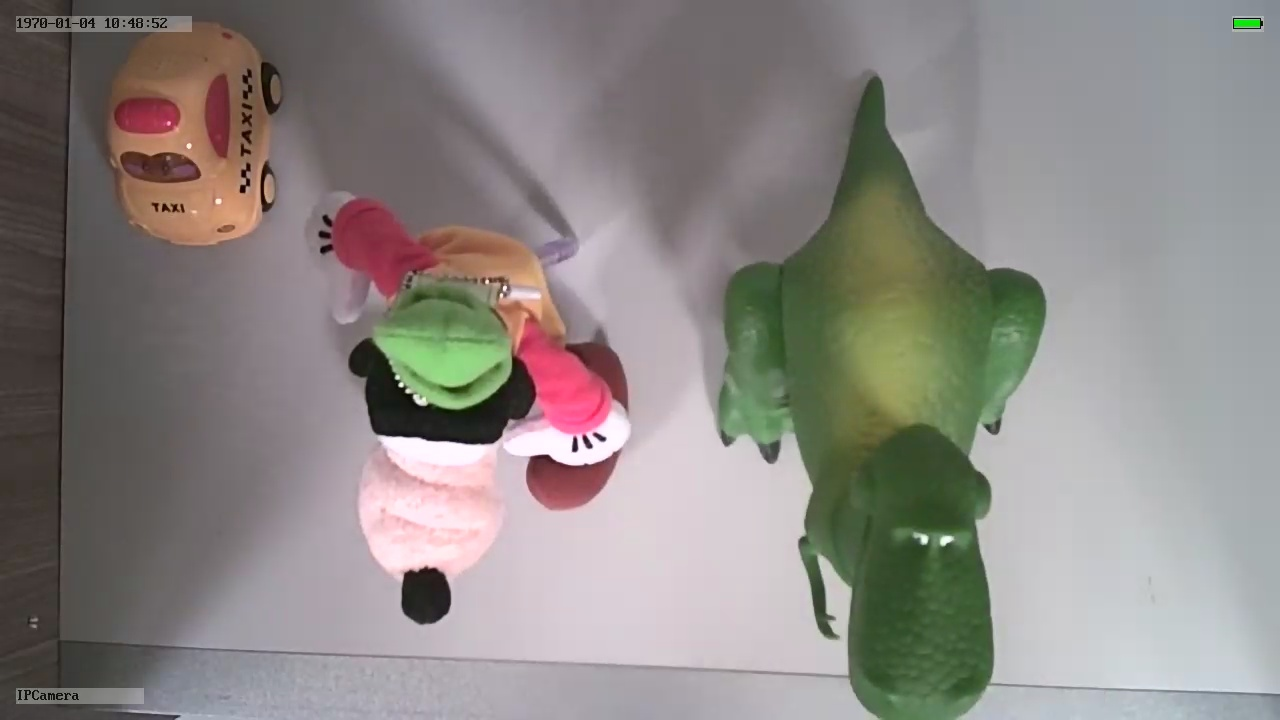car: (105, 21, 280, 251)
goofy: (302, 189, 637, 629)
rex: (714, 162, 1049, 720)
